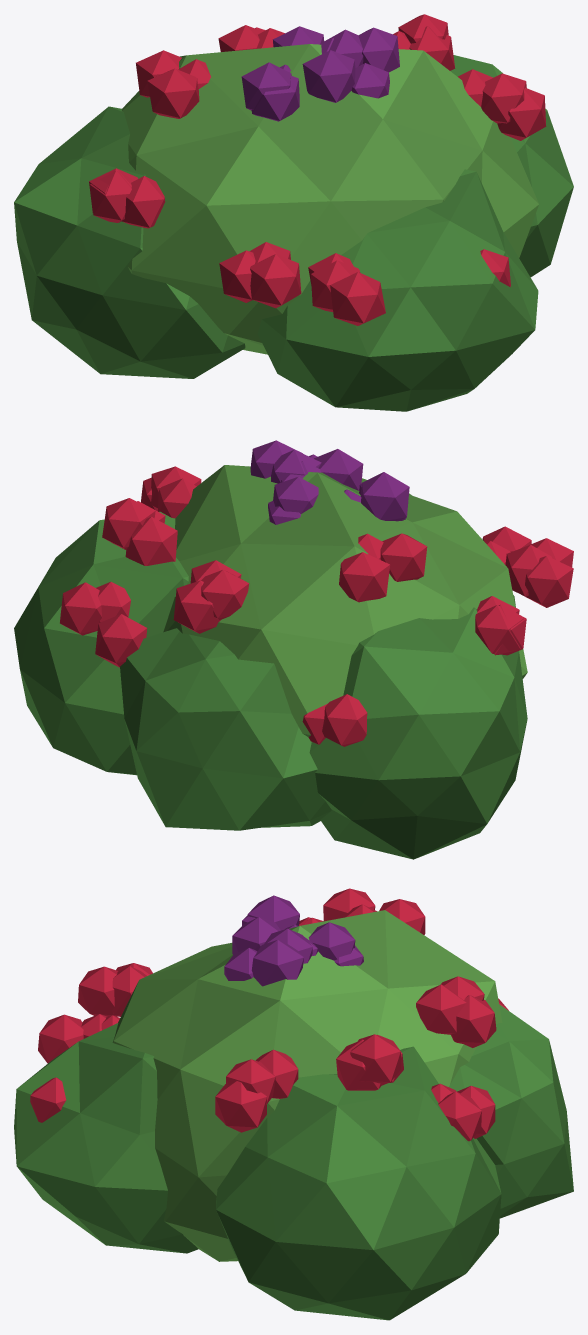
File: berry_bush.glb
3 views of the same model, one above another, from view 1: azimuth 30°, elevation 25°; view 2: azimuth 150°, elevation 25°; view 3: azimuth 270°, elevation 25° (orthographic).
Visible parts, largest first — view 1: berry_bush; view 2: berry_bush; view 3: berry_bush.
Boxes of the visible parts, x1,y1,x2,y2 form: berry_bush: (14,14,573,411); berry_bush: (14,440,573,859); berry_bush: (14,888,573,1320).
Size of the model in its own units: 1.66 by 0.9744 by 1.59.
1 material, 1 textured.
